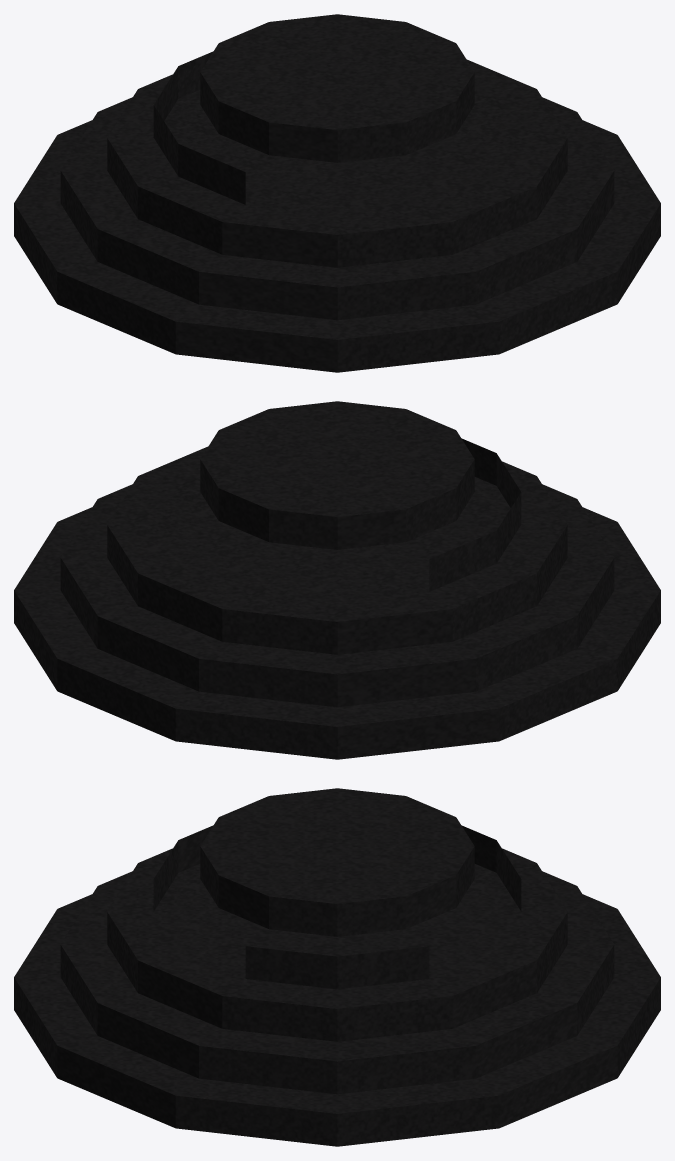
Rendered from B_coal.glb.
3 views of the same model, one above another, from view 1: azimuth 30°, elevation 25°; view 2: azimuth 150°, elevation 25°; view 3: azimuth 270°, elevation 25° (orthographic).
Parts seen in each view (by area): view 1: B_coal; view 2: B_coal; view 3: B_coal.
Part boxes in pixels (box(x1,y1,x2,y2)): B_coal: box(14, 14, 660, 372); B_coal: box(14, 401, 660, 759); B_coal: box(14, 788, 660, 1146).
Size of the model in its own units: 6.8 by 1.9 by 6.8.
1 material, 1 textured.
